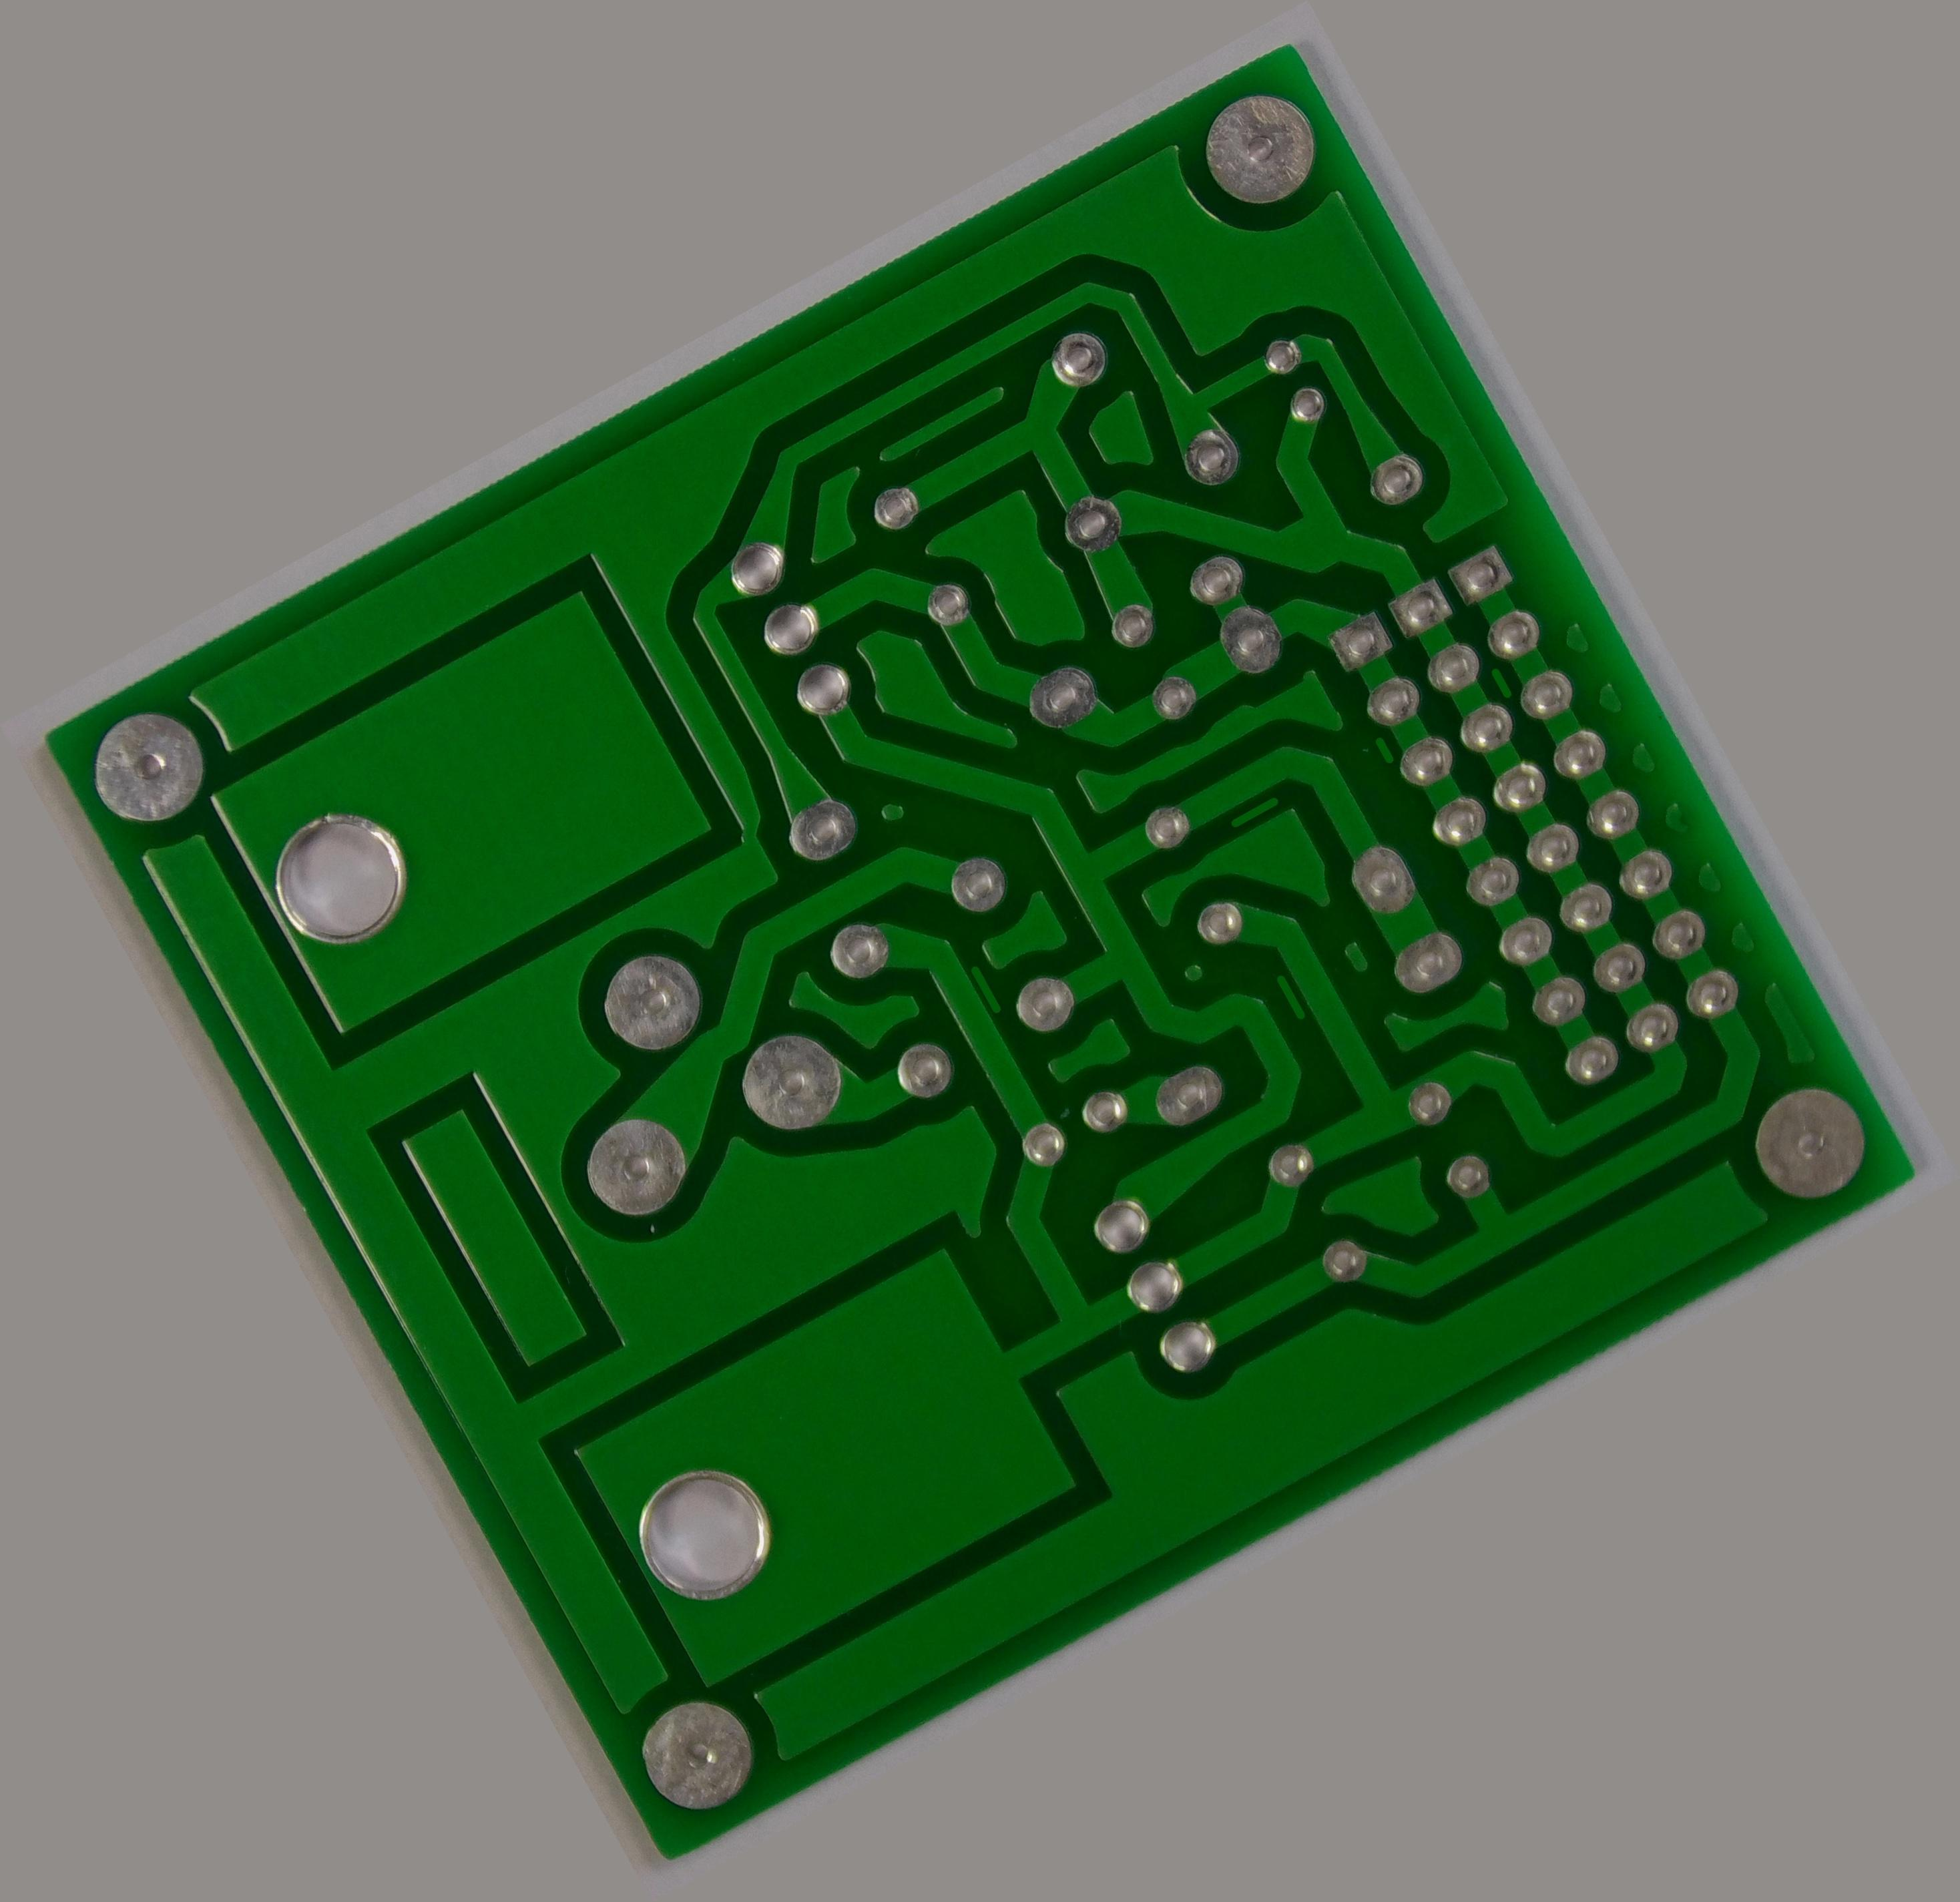spurious_copper: (1213, 775, 1293, 845), (1260, 961, 1321, 1038), (954, 954, 1013, 1024), (1472, 653, 1528, 712), (1358, 723, 1409, 777)
